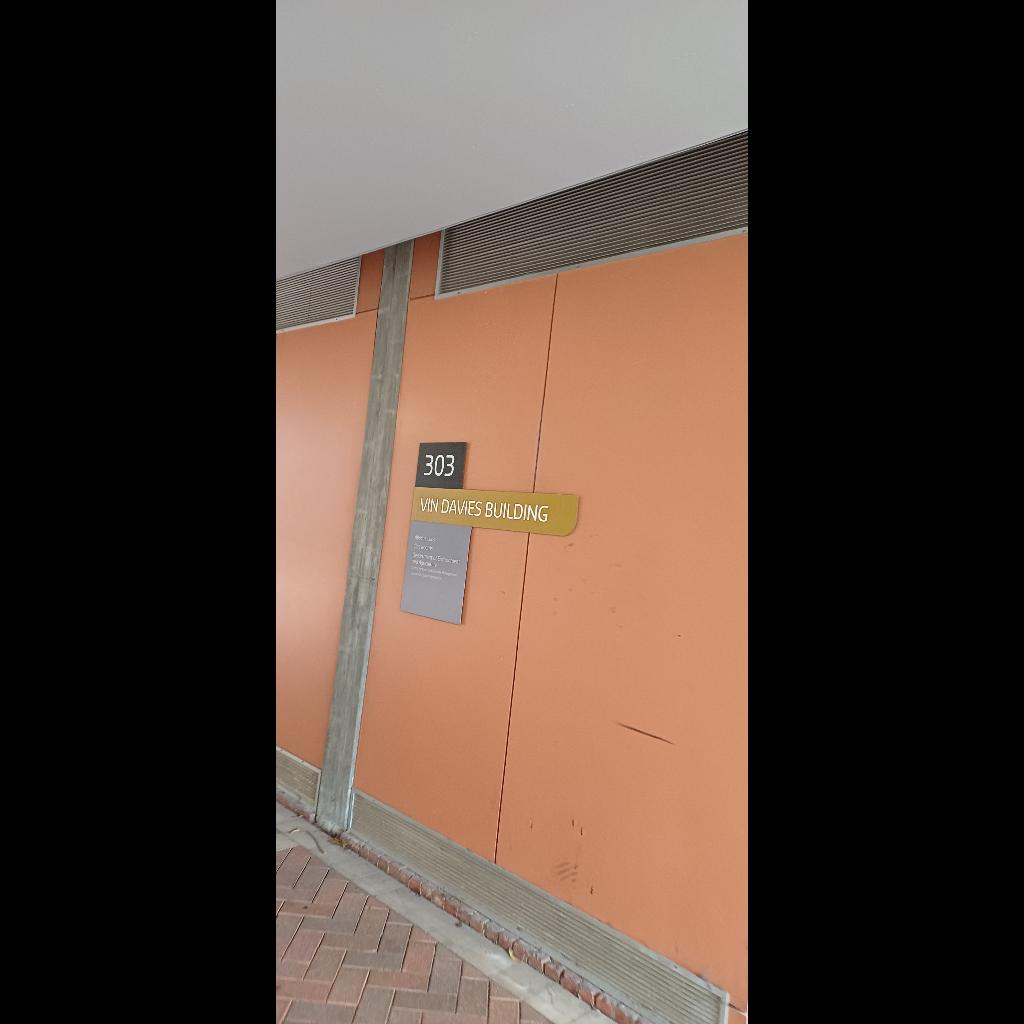BuildingCodes: (420, 449, 460, 481)
